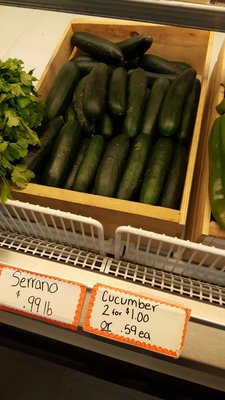curry: (1, 59, 45, 203)
